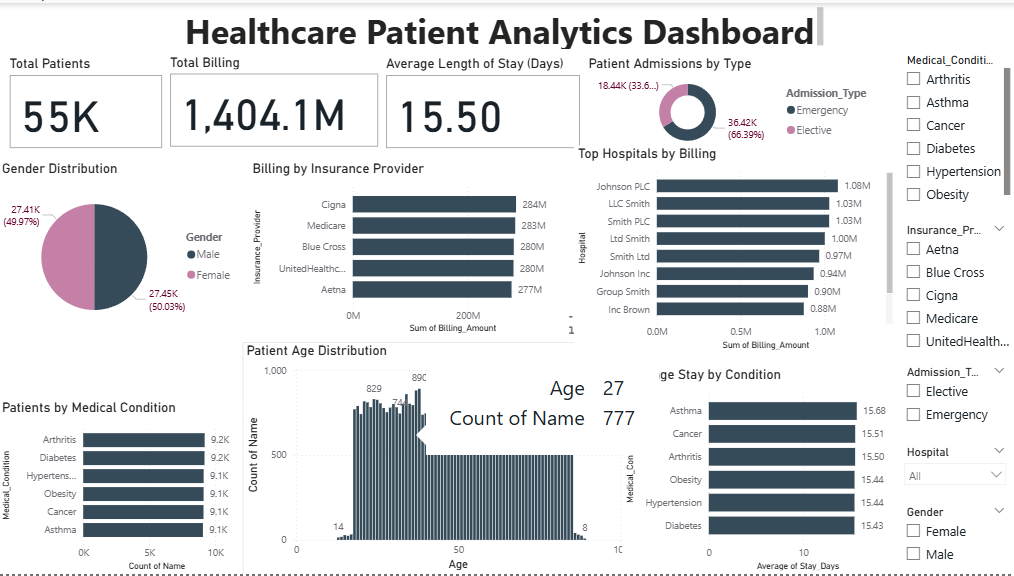

This screenshot's page, from the dashboard's own definition file:
{"tool":"powerbi","page":{"name":"Page 1","canvas":[1280,720],"ordinal":0},"visuals":[{"type":"cardVisual","title":"Total Patients","fields":{"Data":["healthcare_final.Total Patients"]},"box":[10,66,202,122],"z":0},{"type":"cardVisual","title":"Total Billing","fields":{"Data":["healthcare_final.Total Billing"]},"box":[212,64,272,122],"z":1000},{"type":"cardVisual","title":"Average Length of Stay (Days)","fields":{"Data":["healthcare_final.Average Stay"]},"box":[484,66,254,122],"z":2000},{"type":"pieChart","title":"Gender Distribution","fields":{"Category":["healthcare_final.Gender"],"Y":["CountNonNull(healthcare_final.Name)"]},"box":[0,199.3,308,222],"z":3000},{"type":"columnChart","title":"Patient Age Distribution","fields":{"Category":["healthcare_final.Age"],"Y":["CountNonNull(healthcare_final.Name)"]},"box":[308,428,492,292],"z":4000},{"type":"barChart","title":"Patients by Medical Condition","fields":{"Category":["healthcare_final.Medical_Condition"],"Y":["CountNonNull(healthcare_final.Name)"]},"box":[0,498.9,308,221.1],"z":5000},{"type":"donutChart","title":"Patient Admissions by Type","fields":{"Category":["healthcare_final.Admission_Type"],"Y":["CountNonNull(healthcare_final.Name)"]},"box":[738,66,376,122],"z":6000},{"type":"barChart","title":"Top Hospitals by Billing","fields":{"Y":["Sum(healthcare_final.Billing_Amount)"],"Category":["healthcare_final.Hospital"]},"box":[726,179.3,406,262],"z":7000},{"type":"barChart","title":"Billing by Insurance Provider","fields":{"Y":["Sum(healthcare_final.Billing_Amount)"],"Category":["healthcare_final.Insurance_Provider"]},"box":[315,199.3,404,222],"z":8000},{"type":"barChart","title":"Average Stay by Condition","fields":{"Category":["healthcare_final.Medical_Condition"],"Y":["Avg(healthcare_final.Stay_Days)"]},"box":[786,458,346,262],"z":9000},{"type":"slicer","fields":{"Values":["healthcare_final.Medical_Condition"]},"box":[1132,58,148,200],"z":10000},{"type":"slicer","fields":{"Values":["healthcare_final.Insurance_Provider"]},"box":[1132,272,148,176],"z":11000},{"type":"slicer","fields":{"Values":["healthcare_final.Admission_Type"]},"box":[1132,452,148,100],"z":12000},{"type":"slicer","fields":{"Values":["healthcare_final.Hospital"]},"box":[1132,552,148,76],"z":13000},{"type":"slicer","fields":{"Values":["healthcare_final.Gender"]},"box":[1132,628,148,92],"z":14000},{"type":"textbox","box":[230,0,814,62],"z":15000}]}

Visuals, with their boxes on the page's 1280x720 design canvas (x1, y1, x2, y2). These are canvas units, not pixel positions in the 1014x576 screenshot, which may show the page scaled, cropped or inside an application window:
"Total Patients" cardVisual: (x1=10, y1=66, x2=212, y2=188)
"Total Billing" cardVisual: (x1=212, y1=64, x2=484, y2=186)
"Average Length of Stay (Days)" cardVisual: (x1=484, y1=66, x2=738, y2=188)
"Gender Distribution" pieChart: (x1=0, y1=199, x2=308, y2=421)
"Patient Age Distribution" columnChart: (x1=308, y1=428, x2=800, y2=720)
"Patients by Medical Condition" barChart: (x1=0, y1=499, x2=308, y2=720)
"Patient Admissions by Type" donutChart: (x1=738, y1=66, x2=1114, y2=188)
"Top Hospitals by Billing" barChart: (x1=726, y1=179, x2=1132, y2=441)
"Billing by Insurance Provider" barChart: (x1=315, y1=199, x2=719, y2=421)
"Average Stay by Condition" barChart: (x1=786, y1=458, x2=1132, y2=720)
slicer - healthcare_final.Medical_Condition: (x1=1132, y1=58, x2=1280, y2=258)
slicer - healthcare_final.Insurance_Provider: (x1=1132, y1=272, x2=1280, y2=448)
slicer - healthcare_final.Admission_Type: (x1=1132, y1=452, x2=1280, y2=552)
slicer - healthcare_final.Hospital: (x1=1132, y1=552, x2=1280, y2=628)
slicer - healthcare_final.Gender: (x1=1132, y1=628, x2=1280, y2=720)
textbox: (x1=230, y1=0, x2=1044, y2=62)
